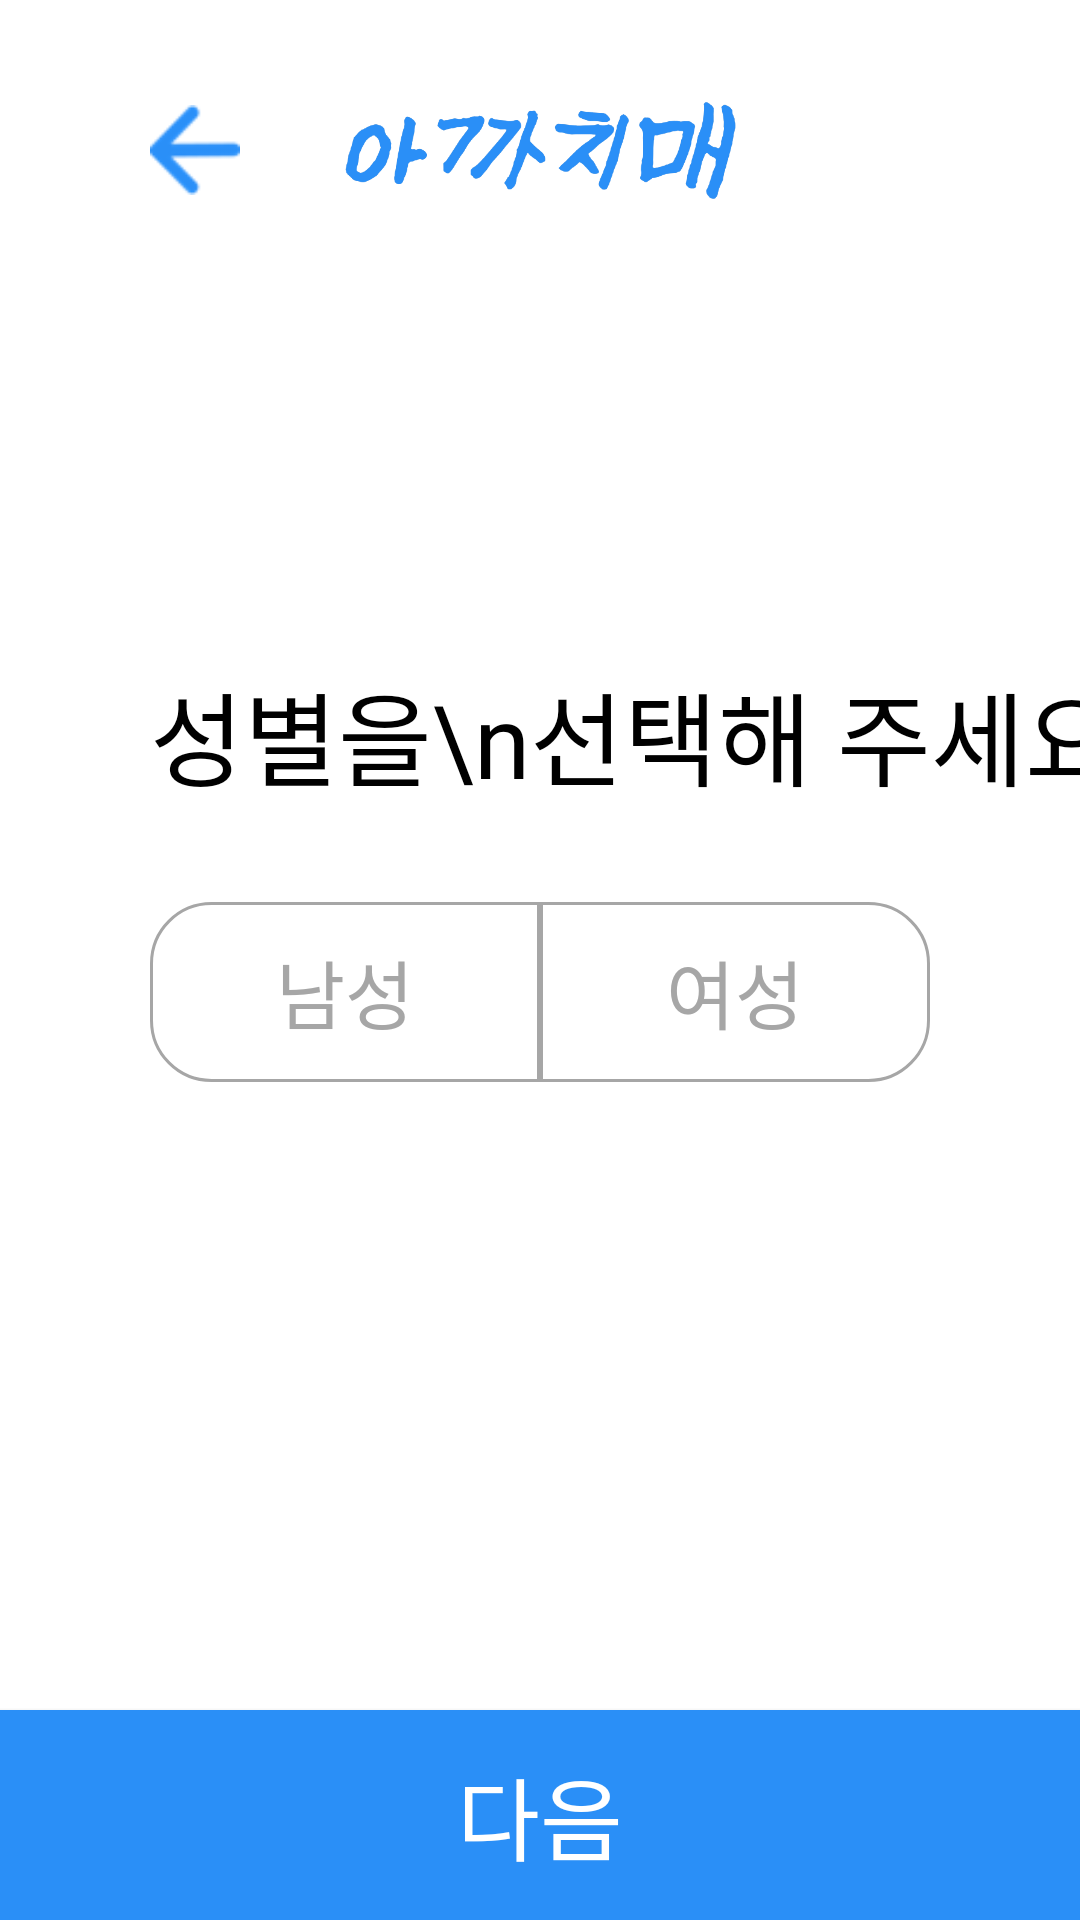

Where icons sit on this 1080x1920 app screen, as (x1, y1, x2, y2):
back: (150, 105, 240, 195)
